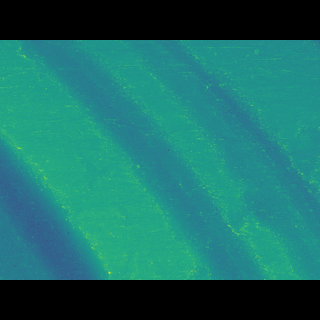Loch: (21, 70, 320, 250), (0, 134, 113, 249)
